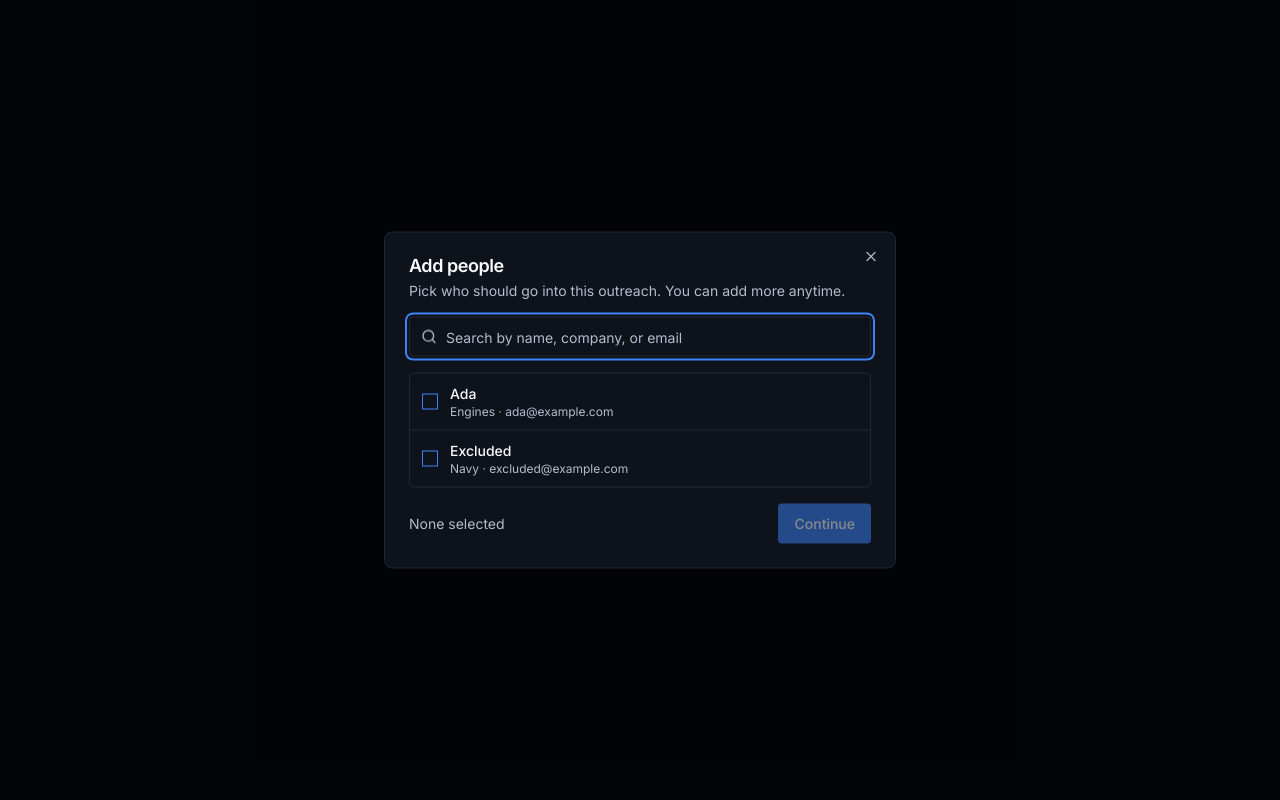
Test: AddLeadsDialog picker › ignores an old search response arriving after a newer search
Expected: the text "Ada" is shown, [450,384,476,402]
Step 1. Type "old" into the field with placeholder "Search by name, company, or email" → point(640, 336), box [409,316,871,356]
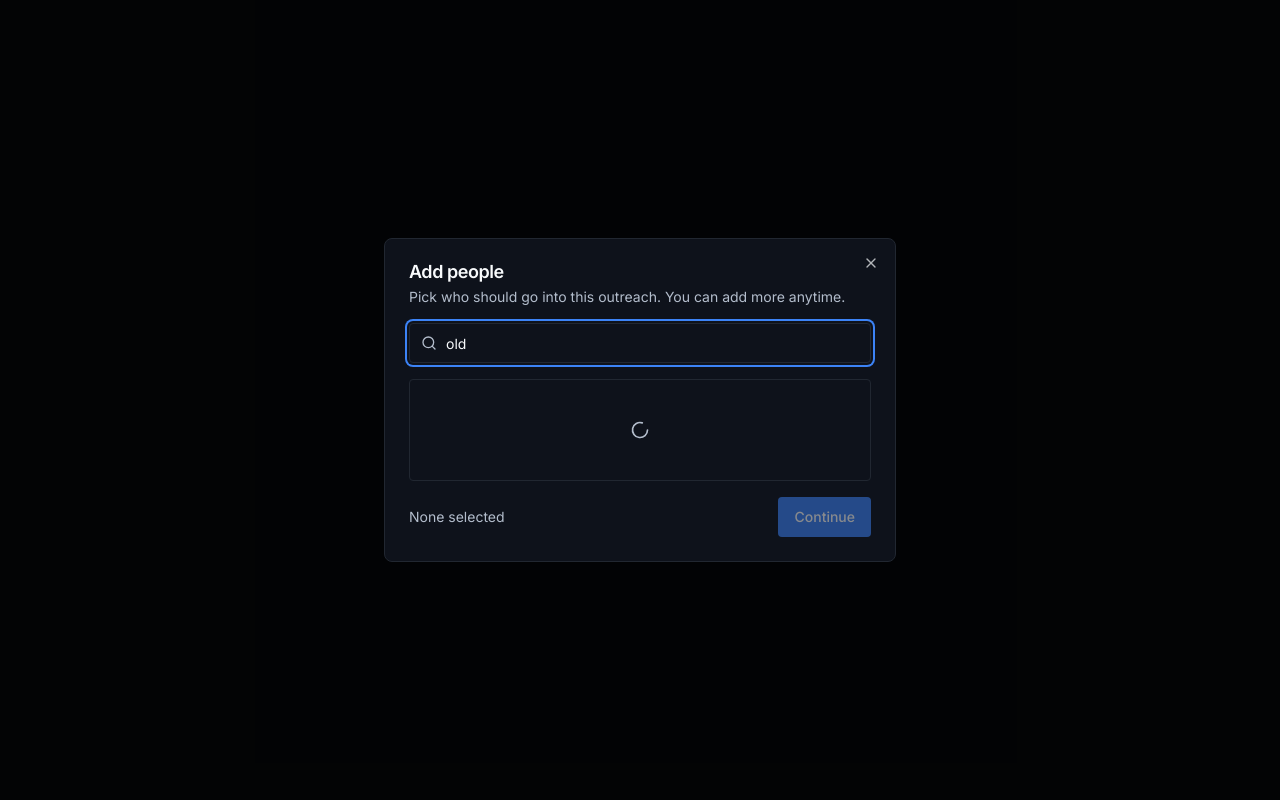
Step 2. Replace the text in the field with placeholder "Search by name, company, or email" with "Older" → point(640, 343), box [409,323,871,363]
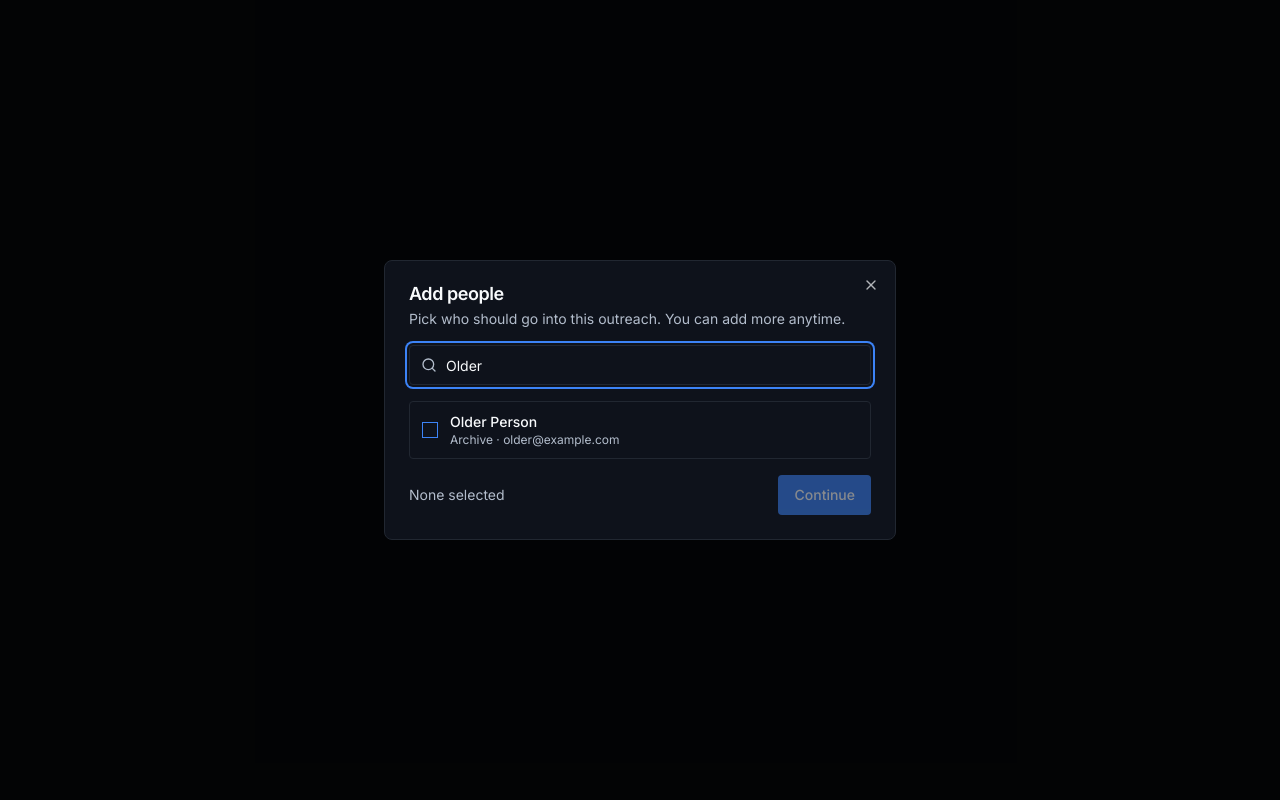
Expected: the text "Older Person" is shown, [450,413,537,430]
